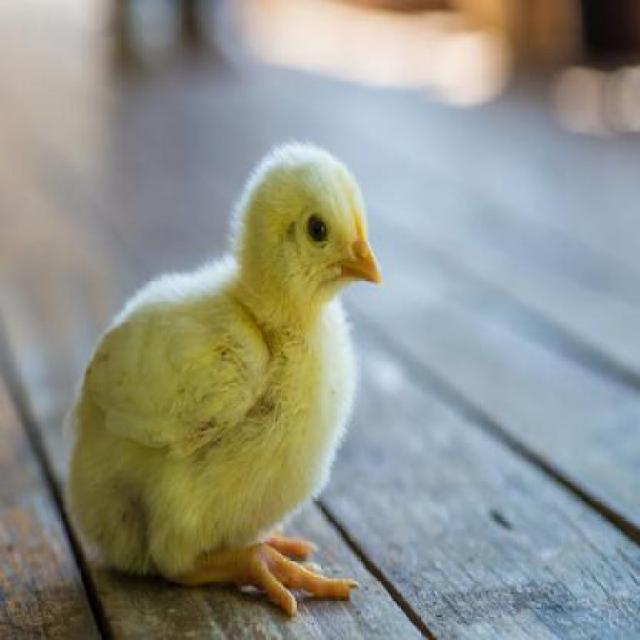poussin: (55, 132, 393, 624)
